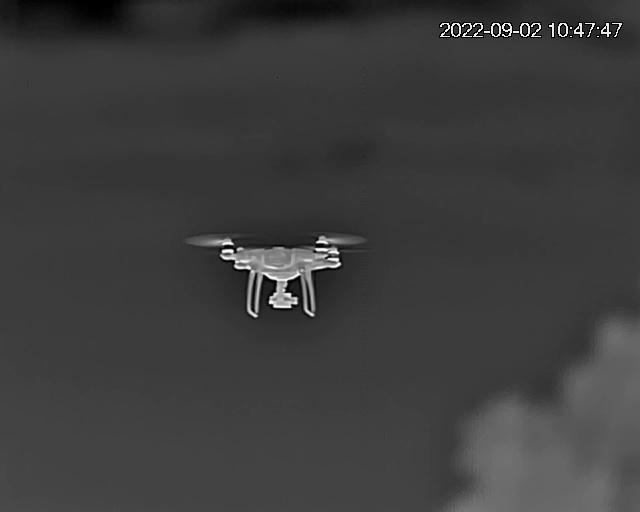DJI-Phantom: (189, 231, 370, 319)
